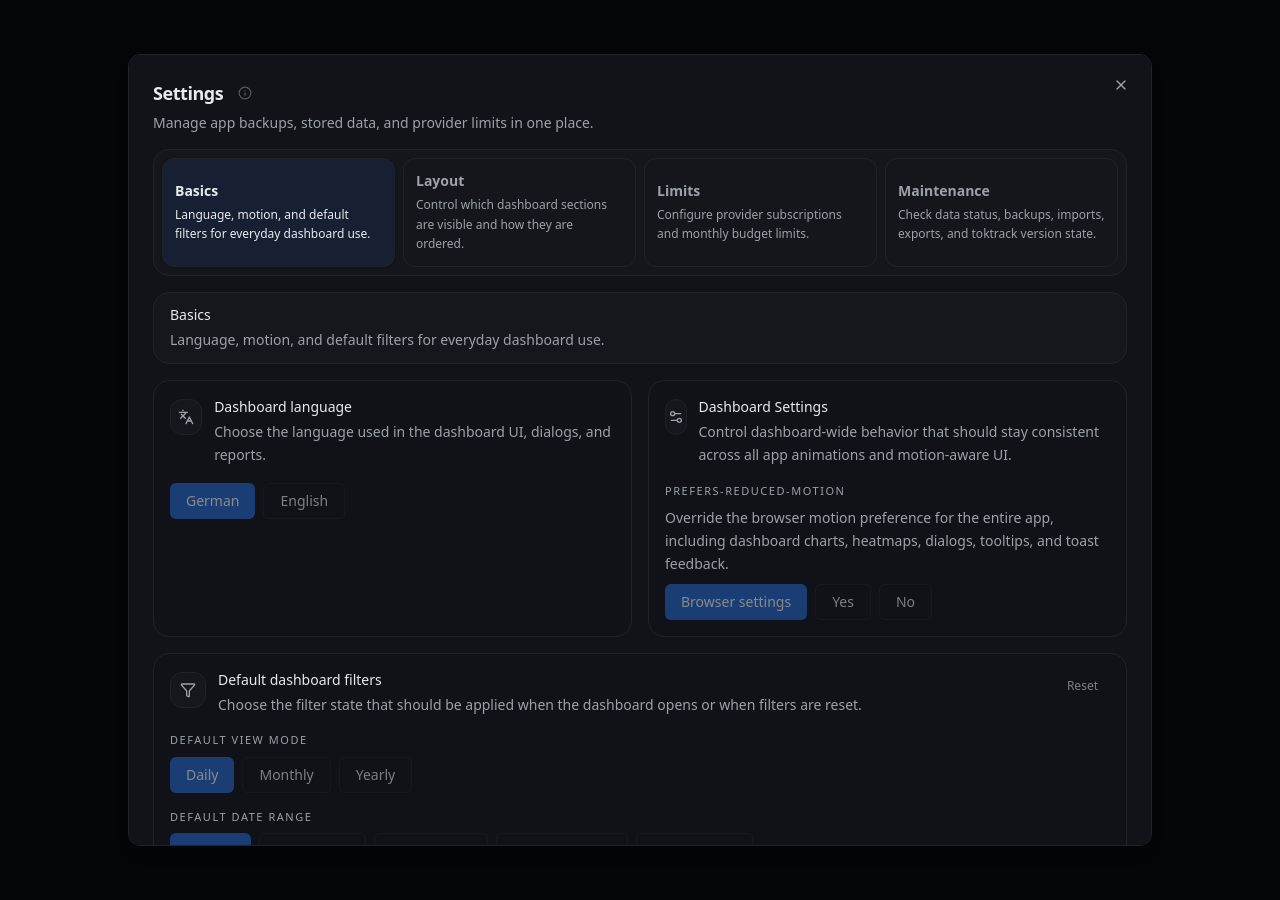
Scenario: SettingsModal provider limits › disables provider limit mutations while settings are busy
Click the tab "Limits" at (760,212), box 644,158 -> 877,266
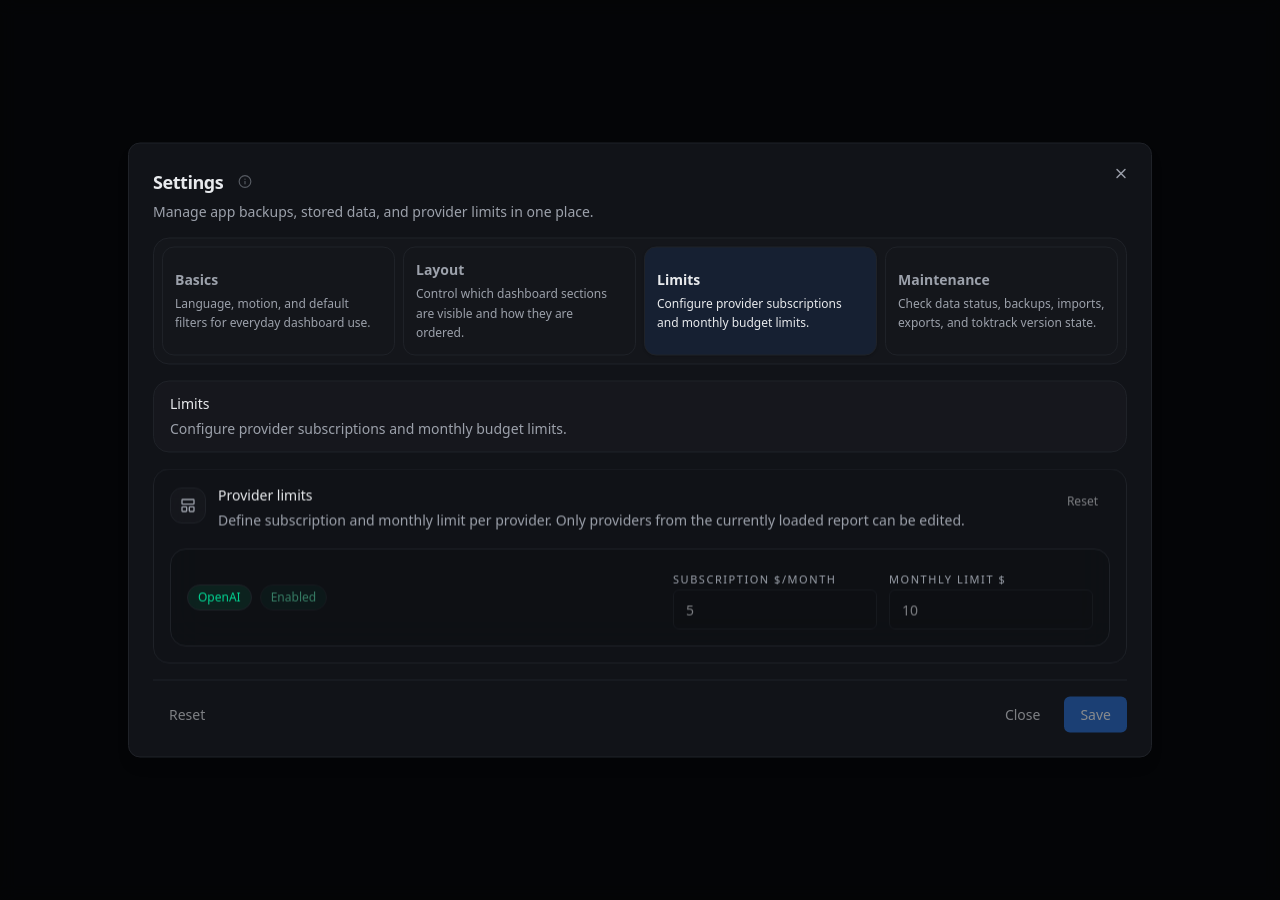
expect the element with test id "settings-provider-subscription-OpenAI" is shown: met, box 170,548 -> 1110,646
expect the button with test id "settings-provider-subscription-OpenAI" is disabled: met, box 260,584 -> 327,610
expect the number field labelled "Subscription $/month" is disabled: met, box 673,590 -> 877,630
